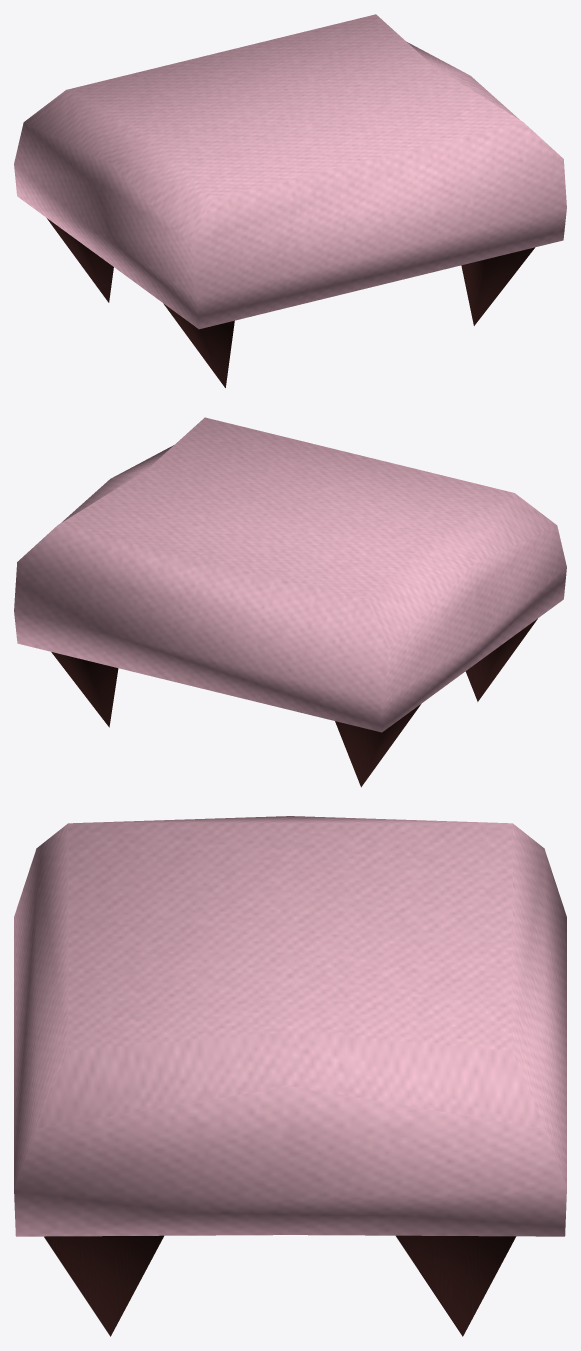
The model's file is WA_Footstool_C_2.FBX.
The picture shows the model from 3 angles, top to bottom: view 1: azimuth 30°, elevation 25°; view 2: azimuth 150°, elevation 25°; view 3: azimuth 270°, elevation 25°; orthographic projection. The views are drawn at different scales.
Visible parts, largest first — view 1: Footstool; view 2: Footstool; view 3: Footstool.
Boxes of the visible parts, left/top/right/bottom form: Footstool: left=14, top=14, right=566, bottom=387; Footstool: left=14, top=417, right=566, bottom=787; Footstool: left=14, top=816, right=566, bottom=1336.
Size of the model in its own units: 127 by 65.76 by 103.
